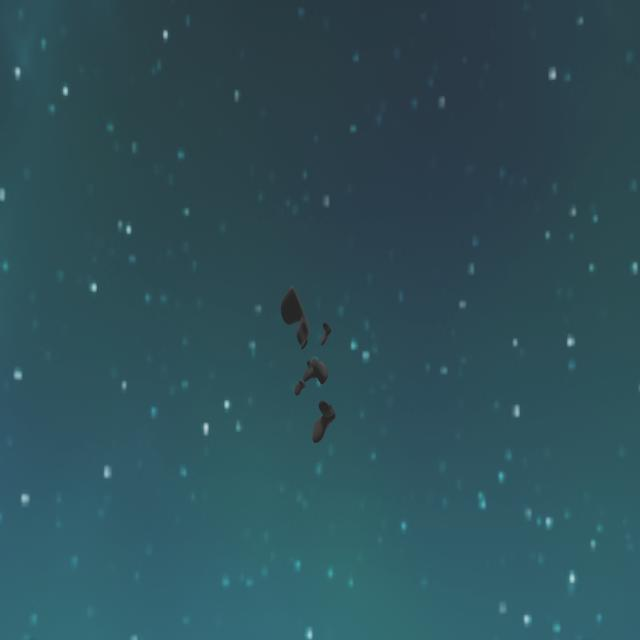large_debris: (278, 281, 312, 359), (309, 403, 337, 448), (295, 359, 328, 397), (320, 319, 330, 346)
